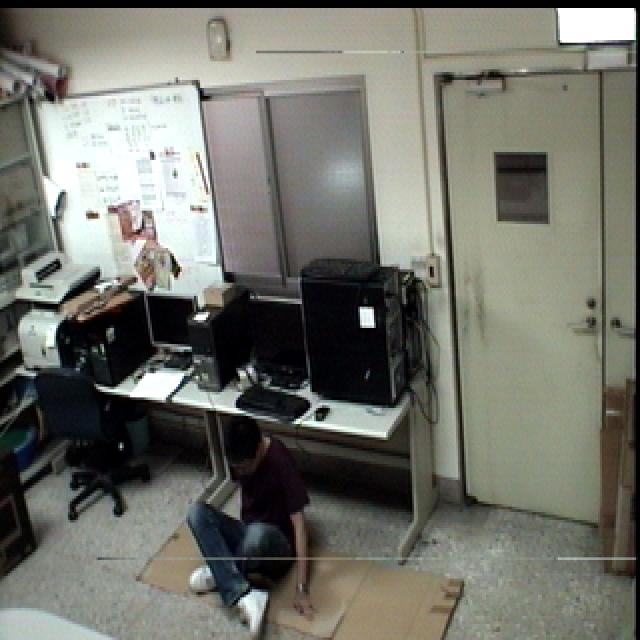sit: (179, 406, 324, 640)
